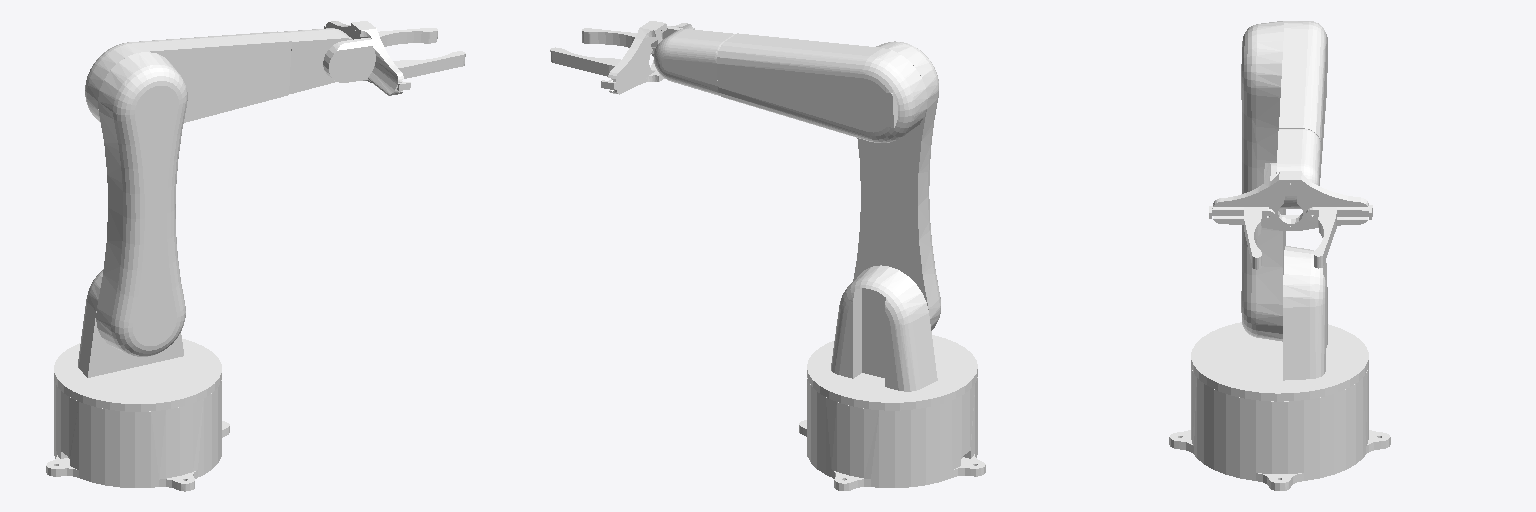
robot.urdf — gamora_test_v6:
<?xml version="1.0" encoding="utf-8"?>
<!-- This URDF was automatically created by SolidWorks to URDF Exporter! Originally created by [author] ([email redacted]) 
     Commit Version: 1.6.0-4-g7f85cfe  Build Version: 1.6.7995.38578
     For more information, please see http://wiki.ros.org/sw_urdf_exporter -->
<robot
  name="gamora_test_v6">
  <link
    name="base_link">
    <inertial>
      <origin
        xyz="3.65777844801504E-05 2.77555756156289E-17 0.0248449579558632"
        rpy="0 0 0" />
      <mass
        value="0.399226749447396" />
      <inertia
        ixx="0.000338857393371017"
        ixy="-1.8589228845618E-20"
        ixz="2.49780793186613E-07"
        iyy="0.000338167249915356"
        iyz="3.04236737840247E-21"
        izz="0.000508963696511292" />
    </inertial>
    <visual>
      <origin
        xyz="0 0 0"
        rpy="0 0 0" />
      <geometry>
        <mesh
          filename="package://gamora_test_v6/meshes/base_link.STL" />
      </geometry>
      <material
        name="">
        <color
          rgba="1 1 1 1" />
      </material>
    </visual>
    <collision>
      <origin
        xyz="0 0 0"
        rpy="0 0 0" />
      <geometry>
        <mesh
          filename="package://gamora_test_v6/meshes/base_link.STL" />
      </geometry>
    </collision>
  </link>
  <link
    name="link1">
    <inertial>
      <origin
        xyz="0.000203904273205269 0.00690174040126276 0.0696448332683273"
        rpy="0 0 0" />
      <mass
        value="0.105637680050857" />
      <inertia
        ixx="8.14075015402512E-05"
        ixy="2.92481051385473E-07"
        ixz="-2.69627783382397E-07"
        iyy="9.12846816690063E-05"
        iyz="-9.12301677438067E-06"
        izz="7.19712643808705E-05" />
    </inertial>
    <visual>
      <origin
        xyz="0 0 0"
        rpy="0 0 0" />
      <geometry>
        <mesh
          filename="package://gamora_test_v6/meshes/link1.STL" />
      </geometry>
      <material
        name="">
        <color
          rgba="1 1 1 1" />
      </material>
    </visual>
    <collision>
      <origin
        xyz="0 0 0"
        rpy="0 0 0" />
      <geometry>
        <mesh
          filename="package://gamora_test_v6/meshes/link1.STL" />
      </geometry>
    </collision>
  </link>
  <joint
    name="joint1"
    type="revolute">
    <origin
      xyz="0 0 0"
      rpy="0 0 0" />
    <parent
      link="base_link" />
    <child
      link="link1" />
    <axis
      xyz="0 0 1" />
    <limit
      lower="0"
      upper="3.142"
      effort="300"
      velocity="3" />
  </joint>
  <link
    name="link2">
    <inertial>
      <origin
        xyz="0.000628073458806618 0.0699971822556392 -0.0088809433904268"
        rpy="0 0 0" />
      <mass
        value="0.174069507366719" />
      <inertia
        ixx="0.000529734788095819"
        ixy="-4.4525039393708E-06"
        ixz="-1.54159996400283E-19"
        iyy="3.35545517835824E-05"
        iyz="-1.54501147838029E-19"
        izz="0.00054781622429636" />
    </inertial>
    <visual>
      <origin
        xyz="0 0 0"
        rpy="0 0 0" />
      <geometry>
        <mesh
          filename="package://gamora_test_v6/meshes/link2.STL" />
      </geometry>
      <material
        name="">
        <color
          rgba="1 1 1 1" />
      </material>
    </visual>
    <collision>
      <origin
        xyz="0 0 0"
        rpy="0 0 0" />
      <geometry>
        <mesh
          filename="package://gamora_test_v6/meshes/link2.STL" />
      </geometry>
    </collision>
  </link>
  <joint
    name="joint2"
    type="revolute">
    <origin
      xyz="-0.00051701 -0.017492 0.09355"
      rpy="1.5708 0 -0.029548" />
    <parent
      link="link1" />
    <child
      link="link2" />
    <axis
      xyz="0 0 -1" />
    <limit
      lower="-1.57"
      upper="1.57"
      effort="200"
      velocity="3" />
  </joint>
  <link
    name="link3">
    <inertial>
      <origin
        xyz="0.0366788617362141 0.00208846220668052 0.0310720174667563"
        rpy="0 0 0" />
      <mass
        value="0.132745210164604" />
      <inertia
        ixx="2.85305184413705E-05"
        ixy="-8.60928523183419E-06"
        ixz="-1.00282255512552E-06"
        iyy="0.000179244680044518"
        iyz="-5.71302653222537E-08"
        izz="0.000194704394871312" />
    </inertial>
    <visual>
      <origin
        xyz="0 0 0"
        rpy="0 0 0" />
      <geometry>
        <mesh
          filename="package://gamora_test_v6/meshes/link3.STL" />
      </geometry>
      <material
        name="">
        <color
          rgba="1 1 1 1" />
      </material>
    </visual>
    <collision>
      <origin
        xyz="0 0 0"
        rpy="0 0 0" />
      <geometry>
        <mesh
          filename="package://gamora_test_v6/meshes/link3.STL" />
      </geometry>
    </collision>
  </link>
  <joint
    name="joint3"
    type="revolute">
    <origin
      xyz="0.0012561 0.13999 0"
      rpy="-3.1416 0 0" />
    <parent
      link="link2" />
    <child
      link="link3" />
    <axis
      xyz="0 0 -1" />
    <limit
      lower="0"
      upper="3.14"
      effort="200"
      velocity="3" />
  </joint>
  <link
    name="link4">
    <inertial>
      <origin
        xyz="0.000850449527258018 -0.00423752049433902 -0.00215419972857081"
        rpy="0 0 0" />
      <mass
        value="0.0290983429803089" />
      <inertia
        ixx="5.93598417078438E-06"
        ixy="-9.79881236563727E-08"
        ixz="9.88461005656221E-07"
        iyy="7.02422317652868E-06"
        iyz="2.48371414138487E-07"
        izz="3.82208175714108E-06" />
    </inertial>
    <visual>
      <origin
        xyz="0 0 0"
        rpy="0 0 0" />
      <geometry>
        <mesh
          filename="package://gamora_test_v6/meshes/link4.STL" />
      </geometry>
      <material
        name="">
        <color
          rgba="1 1 1 1" />
      </material>
    </visual>
    <collision>
      <origin
        xyz="0 0 0"
        rpy="0 0 0" />
      <geometry>
        <mesh
          filename="package://gamora_test_v6/meshes/link4.STL" />
      </geometry>
    </collision>
  </link>
  <joint
    name="joint4"
    type="revolute">
    <origin
      xyz="0.1228 0.0069922 0.02685"
      rpy="-1.5671 -0.0092721 1.2517" />
    <parent
      link="link3" />
    <child
      link="link4" />
    <axis
      xyz="0.36717 0 -0.93015" />
    <limit
      lower="0"
      upper="3.14"
      effort="200"
      velocity="3" />
  </joint>
  <link
    name="link5">
    <inertial>
      <origin
        xyz="0.0154747264382004 -0.00293153502993415 -0.0118794881006278"
        rpy="0 0 0" />
      <mass
        value="0.0133014644417735" />
      <inertia
        ixx="5.72458858793224E-06"
        ixy="9.69229819207655E-08"
        ixz="5.38523923657501E-07"
        iyy="5.85854634434417E-06"
        iyz="-3.97526876859022E-08"
        izz="1.92167712923785E-06" />
    </inertial>
    <visual>
      <origin
        xyz="0 0 0"
        rpy="0 0 0" />
      <geometry>
        <mesh
          filename="package://gamora_test_v6/meshes/link5.STL" />
      </geometry>
      <material
        name="">
        <color
          rgba="1 1 1 1" />
      </material>
    </visual>
    <collision>
      <origin
        xyz="0 0 0"
        rpy="0 0 0" />
      <geometry>
        <mesh
          filename="package://gamora_test_v6/meshes/link5.STL" />
      </geometry>
    </collision>
  </link>
  <joint
    name="joint5"
    type="revolute">
    <origin
      xyz="0.0052195 0.01385 -0.013223"
      rpy="-1.5708 1.2517 0" />
    <parent
      link="link4" />
    <child
      link="link5" />
    <axis
      xyz="0.00010816 0 -1" />
    <limit
      lower="-1.57"
      upper="1.57"
      effort="200"
      velocity="3" />
  </joint>
  <link
    name="left_eef">
    <inertial>
      <origin
        xyz="-0.005869137099802 -0.00134002890870294 0.0160665206489369"
        rpy="0 0 0" />
      <mass
        value="0.00287309147599194" />
      <inertia
        ixx="8.49525819736948E-07"
        ixy="-2.02981426911352E-09"
        ixz="2.42809606060332E-08"
        iyy="8.55686932309195E-07"
        iyz="6.82126018110851E-08"
        izz="4.6827937332767E-08" />
    </inertial>
    <visual>
      <origin
        xyz="0 0 0"
        rpy="0 0 0" />
      <geometry>
        <mesh
          filename="package://gamora_test_v6/meshes/left_eef.STL" />
      </geometry>
      <material
        name="">
        <color
          rgba="1 1 1 1" />
      </material>
    </visual>
    <collision>
      <origin
        xyz="0 0 0"
        rpy="0 0 0" />
      <geometry>
        <mesh
          filename="package://gamora_test_v6/meshes/left_eef.STL" />
      </geometry>
    </collision>
  </link>
  <joint
    name="joint_leff"
    type="prismatic">
    <origin
      xyz="0.0273987089896614 -0.00745168409423436 -0.0411928506891505"
      rpy="1.89961667699159 1.57079631189374 1.90042073421564" />
    <parent
      link="link5" />
    <child
      link="left_eef" />
    <axis
      xyz="-0.999999994135008 0 0.000108161742346024" />
    <limit
      lower="-0.018"
      upper="0"
      effort="100"
      velocity="3" />
  </joint>
  <link
    name="right_eef">
    <inertial>
      <origin
        xyz="0.00586913709979831 -0.00136734858500365 0.016064218657811"
        rpy="0 0 0" />
      <mass
        value="0.00287309147599193" />
      <inertia
        ixx="8.49525819736946E-07"
        ixy="2.06184834239177E-09"
        ixz="-2.42782613737442E-08"
        iyy="8.55544967518831E-07"
        iyz="6.90490288816019E-08"
        izz="4.69699021231317E-08" />
    </inertial>
    <visual>
      <origin
        xyz="0 0 0"
        rpy="0 0 0" />
      <geometry>
        <mesh
          filename="package://gamora_test_v6/meshes/right_eef.STL" />
      </geometry>
      <material
        name="">
        <color
          rgba="1 1 1 1" />
      </material>
    </visual>
    <collision>
      <origin
        xyz="0 0 0"
        rpy="0 0 0" />
      <geometry>
        <mesh
          filename="package://gamora_test_v6/meshes/right_eef.STL" />
      </geometry>
    </collision>
  </link>
  <joint
    name="joint_reff"
    type="prismatic">
    <origin
      xyz="0.027338 -0.0081751 0.010793"
      rpy="-2.8191 1.5708 -2.8202" />
    <parent
      link="link5" />
    <child
      link="right_eef" />
    <axis
      xyz="1 0 -0.00010816" />
    <limit
      lower="-0.018"
      upper="0"
      effort="100"
      velocity="3" />
  </joint>
</robot>

--- Render facts (derived) ---
The picture shows the robot from 3 angles, left to right: view 1: azimuth 30°, elevation 25°; view 2: azimuth 150°, elevation 25°; view 3: azimuth 270°, elevation 25°; orthographic projection.
Model gamora_test_v6 with 8 links and 7 joints (5 revolute, 2 prismatic), rooted at base_link, posed all joints at 0.
Visible links, largest first — view 1: link2, base_link, link1, link3, link5, link4, right_eef, left_eef; view 2: link3, link1, base_link, link2, link4, link5, left_eef, right_eef; view 3: base_link, link1, link2, link5, link3, link4, left_eef, right_eef.
Link boxes in pixels (x1=…): link2: x1=96, y1=52, x2=187, y2=356; base_link: x1=46, y1=380, x2=229, y2=491; link1: x1=54, y1=269, x2=221, y2=411; link3: x1=85, y1=31, x2=291, y2=122; link5: x1=323, y1=21, x2=410, y2=95; link4: x1=281, y1=28, x2=353, y2=93; right_eef: x1=393, y1=51, x2=465, y2=78; left_eef: x1=378, y1=28, x2=437, y2=46; link3: x1=717, y1=33, x2=927, y2=142; link1: x1=807, y1=265, x2=977, y2=410; base_link: x1=799, y1=377, x2=985, y2=490; link2: x1=853, y1=41, x2=940, y2=330; link4: x1=654, y1=29, x2=734, y2=95; link5: x1=601, y1=21, x2=694, y2=94; left_eef: x1=550, y1=47, x2=620, y2=76; right_eef: x1=582, y1=28, x2=653, y2=56; base_link: x1=1169, y1=368, x2=1390, y2=490; link1: x1=1191, y1=246, x2=1368, y2=401; link2: x1=1241, y1=21, x2=1285, y2=341; link5: x1=1209, y1=163, x2=1372, y2=230; link3: x1=1279, y1=21, x2=1327, y2=163; link4: x1=1276, y1=129, x2=1320, y2=208; left_eef: x1=1306, y1=207, x2=1336, y2=268; right_eef: x1=1244, y1=207, x2=1274, y2=269.
Size in the robot's own frame: 0.2798 by 0.124 by 0.2605 metres.
8 mesh visuals loaded from 8 distinct referenced files (8 binary STL).
